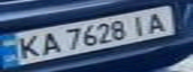2: (93, 19, 115, 45)
6: (81, 21, 100, 48)
7: (60, 25, 84, 52)
8: (109, 17, 130, 42)
A: (142, 9, 175, 35), (36, 28, 63, 56)
I: (124, 12, 154, 37)
K: (9, 33, 45, 61)
